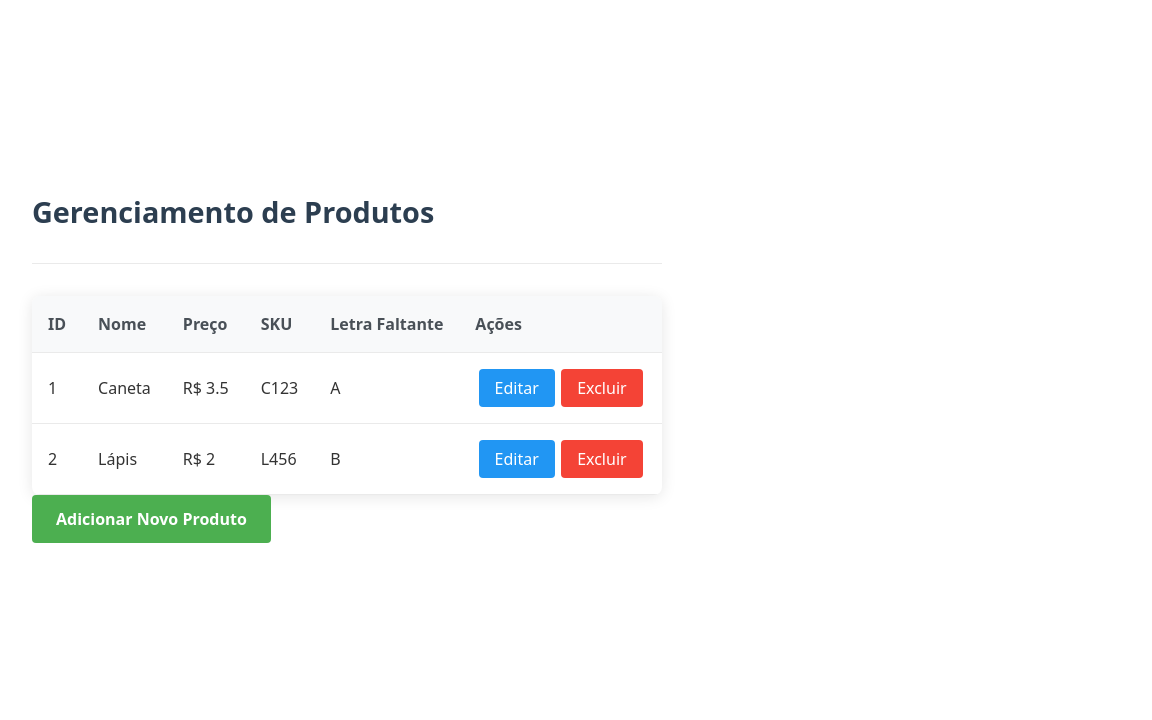
it: ProductsList › opens the form when clicking on "Add New Product"
Expected: the text "Caneta" is shown, x1=82 y1=353 x2=167 y2=424
Click the button "Adicionar Novo Produto" at (151, 519), box x1=32 y1=495 x2=271 y2=543
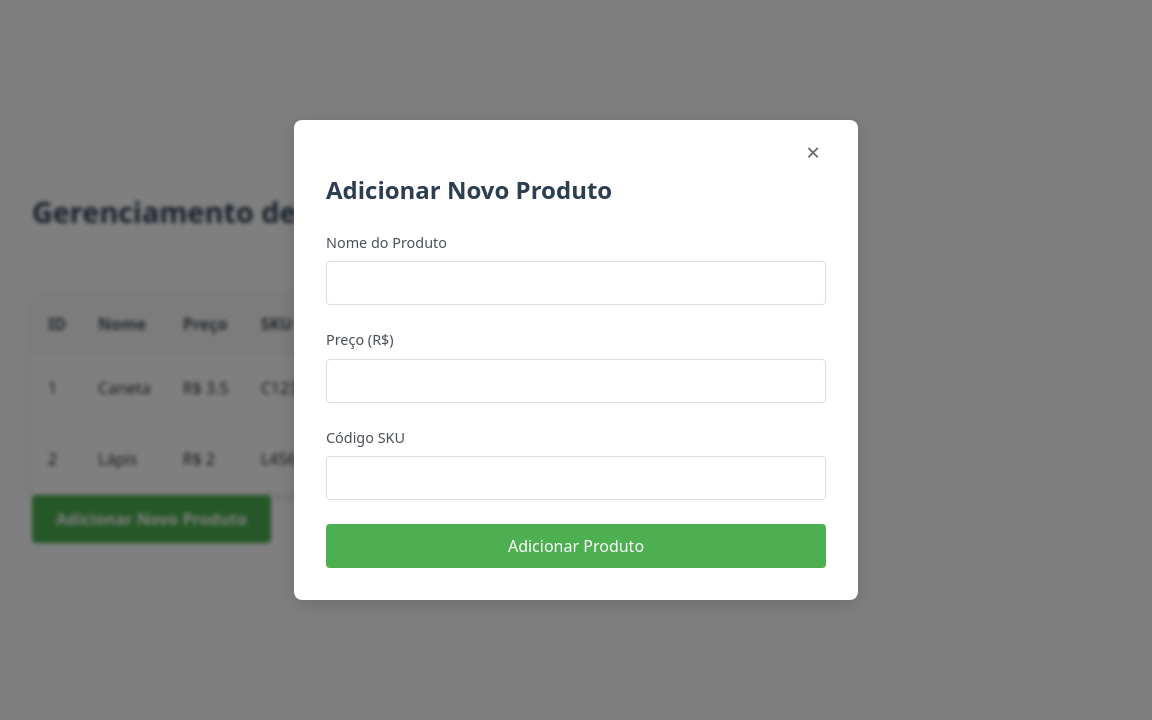
Expected: the heading "Adicionar Novo Produto" is shown, x1=326 y1=172 x2=612 y2=206
Expected: the field labelled "Nome do Produto" is shown, x1=326 y1=261 x2=826 y2=305
